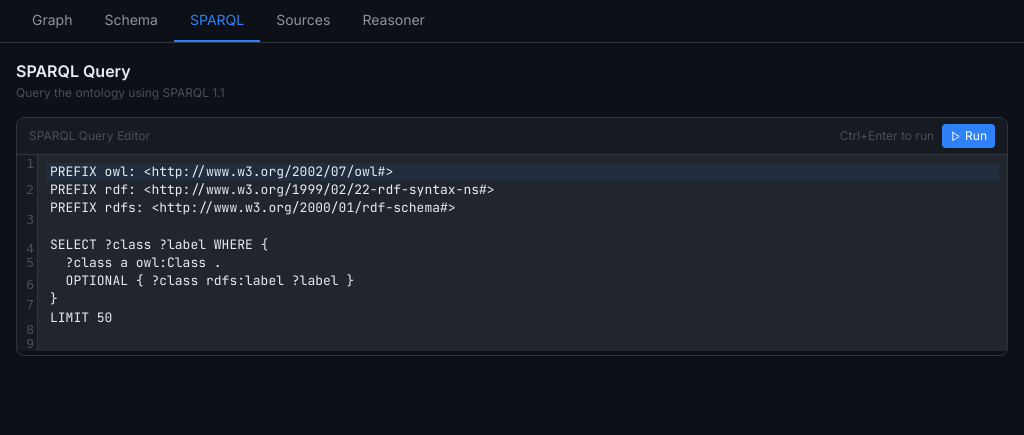
Test case: SPARQLPage › shows error message when API returns error
Click the button "Run".
click(969, 136)  # box left=942, top=124, right=995, bottom=148
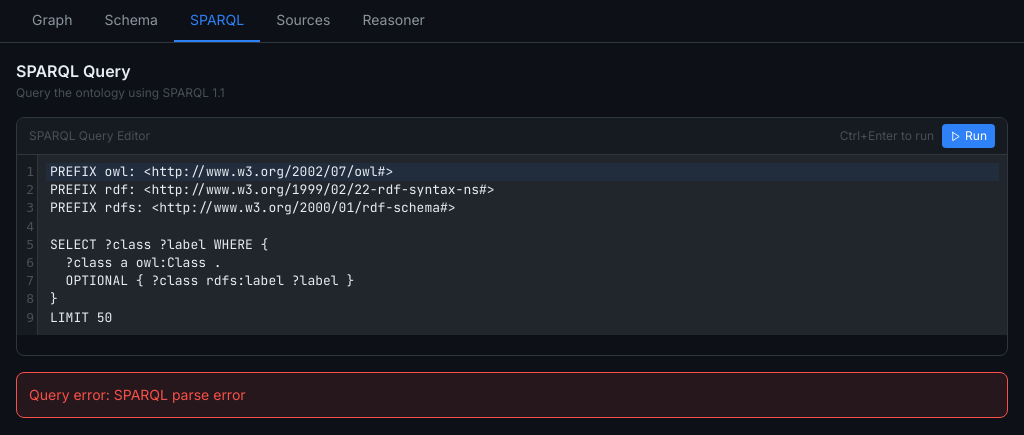
Expected: the text "Query error: SPARQL parse error" is shown, left=16, top=372, right=1008, bottom=418
